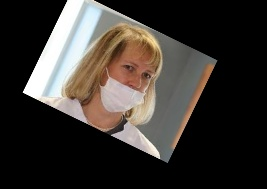mask_weared_incorrect: (100, 41, 160, 118)
